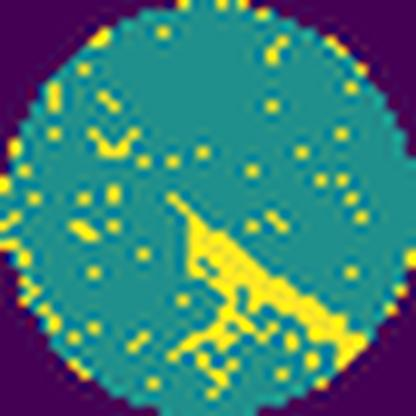Loc: (169, 191, 370, 370)
